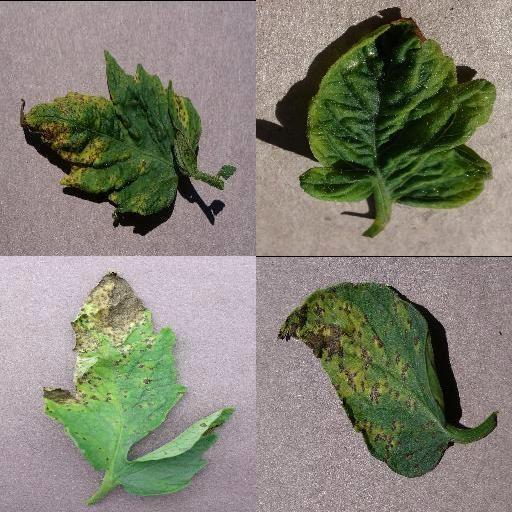Septoria: (44, 274, 235, 498), (279, 281, 455, 476), (21, 49, 201, 214)
Yellow Leaf Curl Virus: (296, 16, 496, 208)
